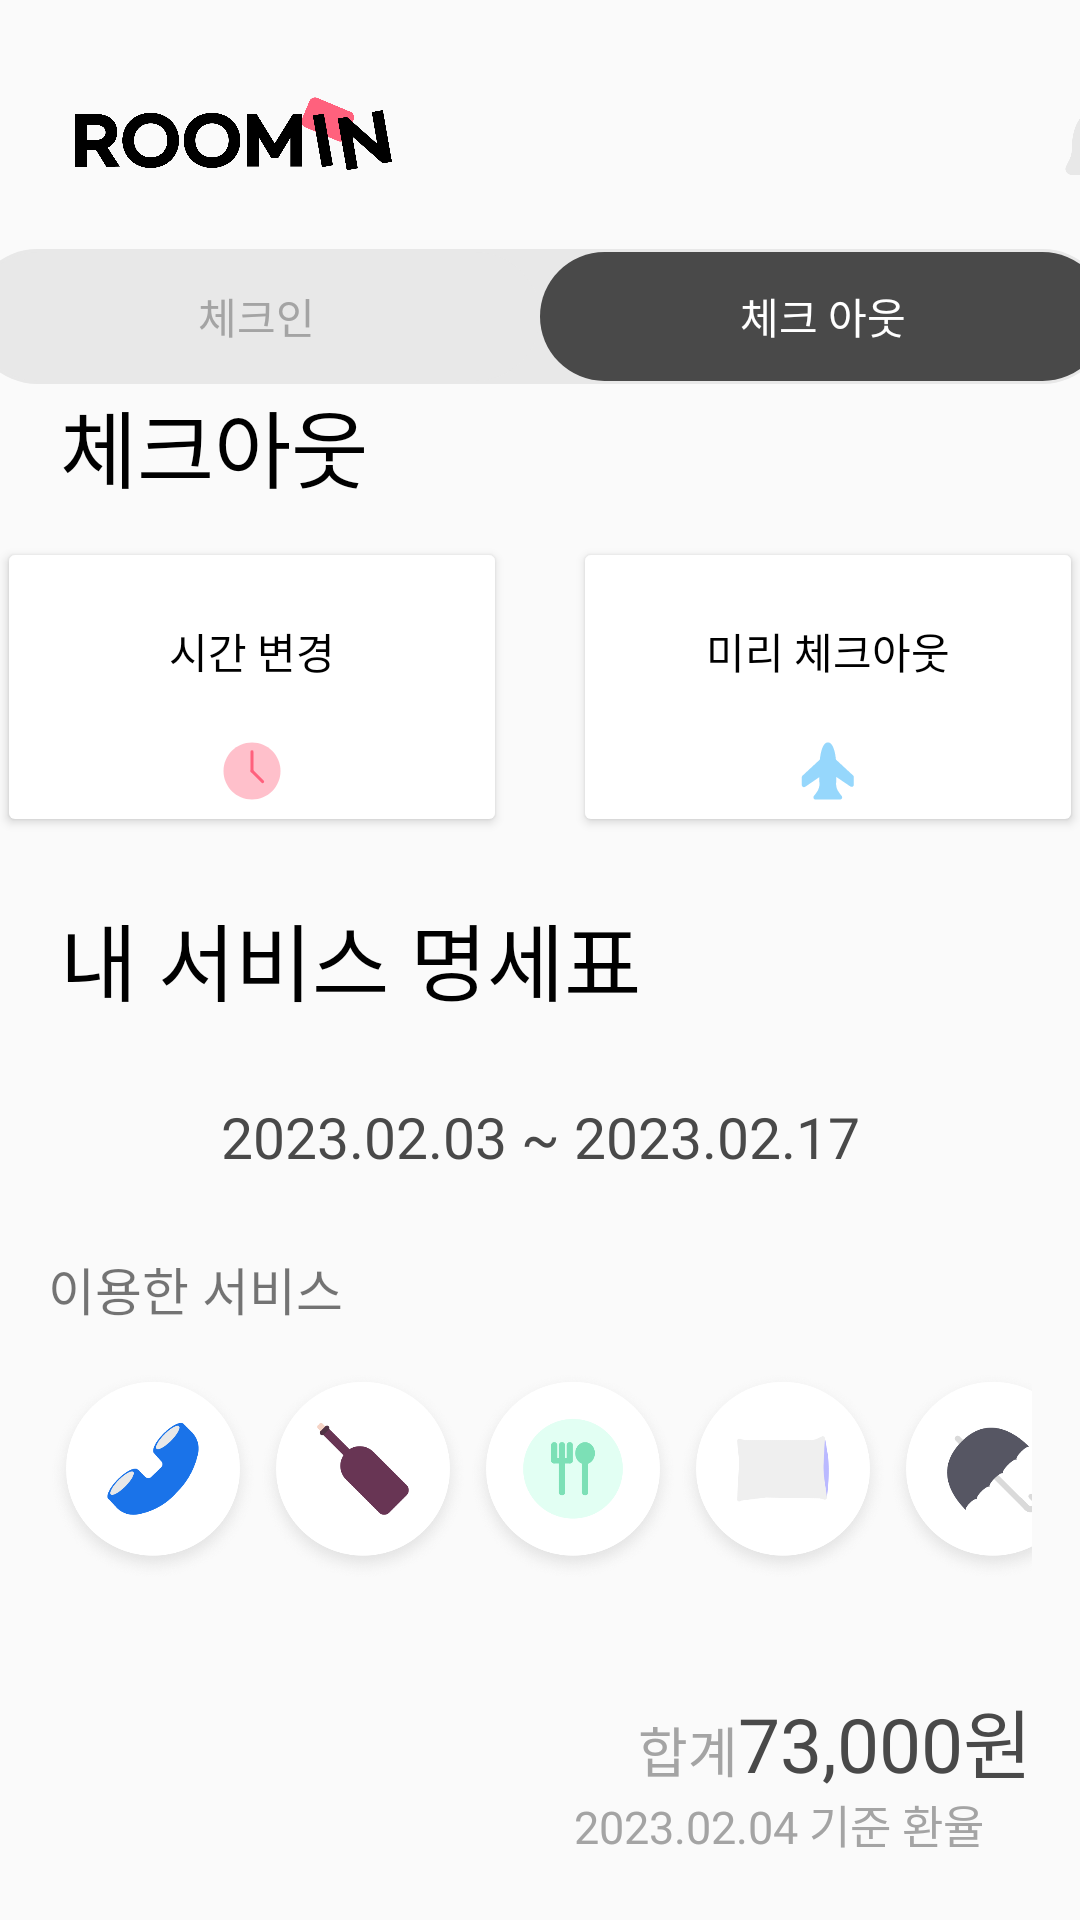

Named icons in this screenshot (1080 × 1920) and their bounding boxes, (x1, y1, x2, y2):
call: (107, 1423, 199, 1515)
drink: (317, 1423, 409, 1515)
meal: (551, 1442, 595, 1496)
